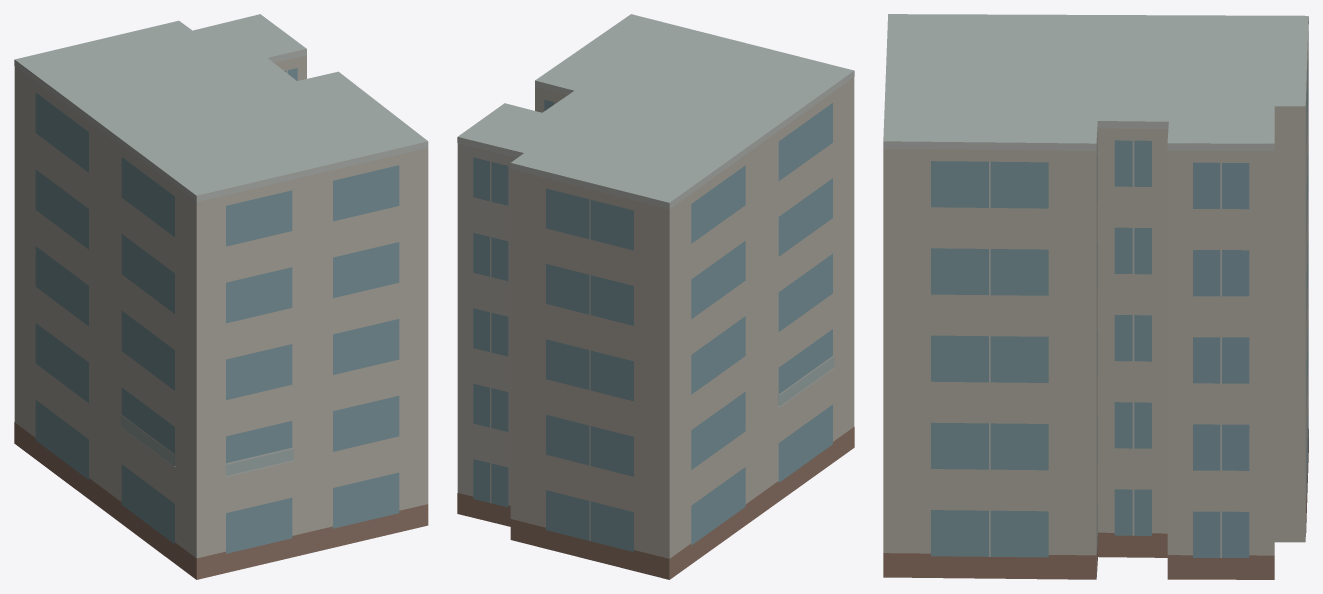
Rendered from survey-upis-32918832.glb.
3 views of the same model, side by side, from view 1: azimuth 30°, elevation 25°; view 2: azimuth 150°, elevation 25°; view 3: azimuth 270°, elevation 25° (orthographic). The views are drawn at different scales.
Parts seen in each view (by area): view 1: survey-upis-32918832.tmp; view 2: survey-upis-32918832.tmp; view 3: survey-upis-32918832.tmp.
Part boxes in pixels (x1=…): survey-upis-32918832.tmp: x1=14, y1=14, x2=428, y2=579; survey-upis-32918832.tmp: x1=457, y1=14, x2=854, y2=579; survey-upis-32918832.tmp: x1=883, y1=14, x2=1308, y2=579.
Size of the model in its own units: 9.28 by 14.5 by 12.83.
